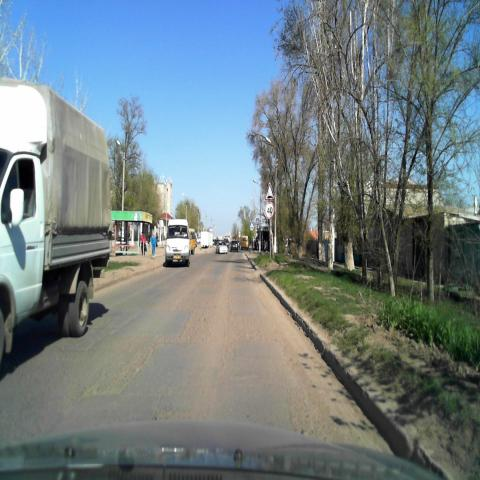1_17: (264, 182, 275, 200)
3_24: (265, 202, 275, 219)
